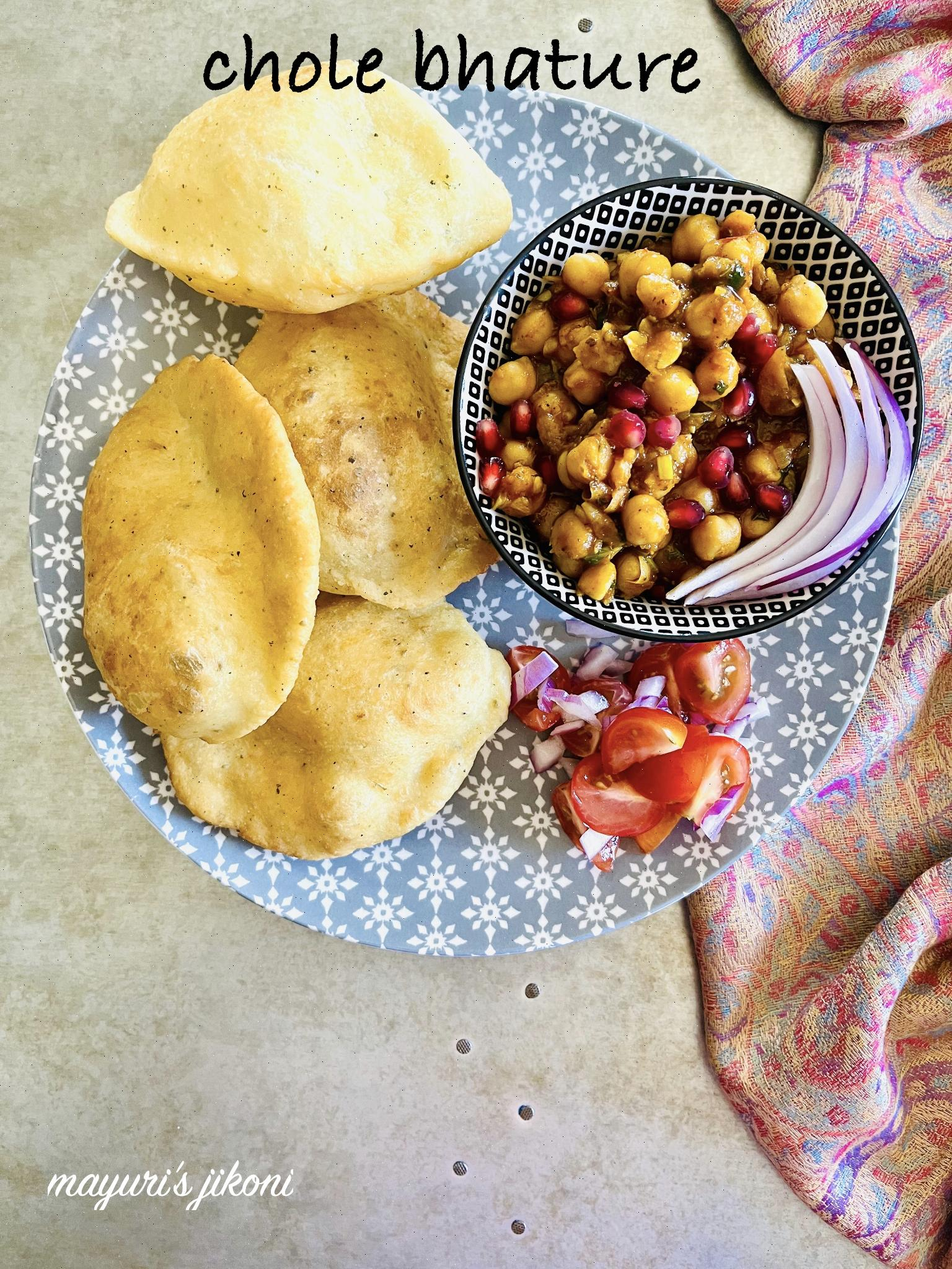chole: (498, 231, 798, 599)
salad: (722, 354, 903, 640), (524, 668, 739, 846)
